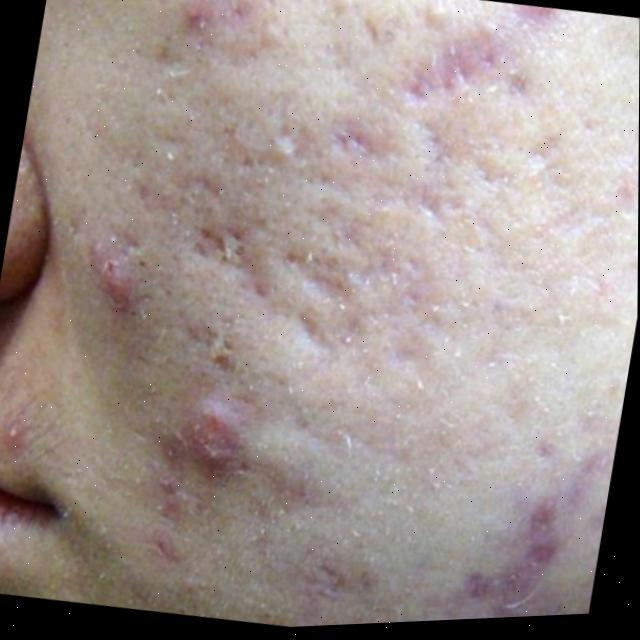Acne: (52, 0, 640, 637)
